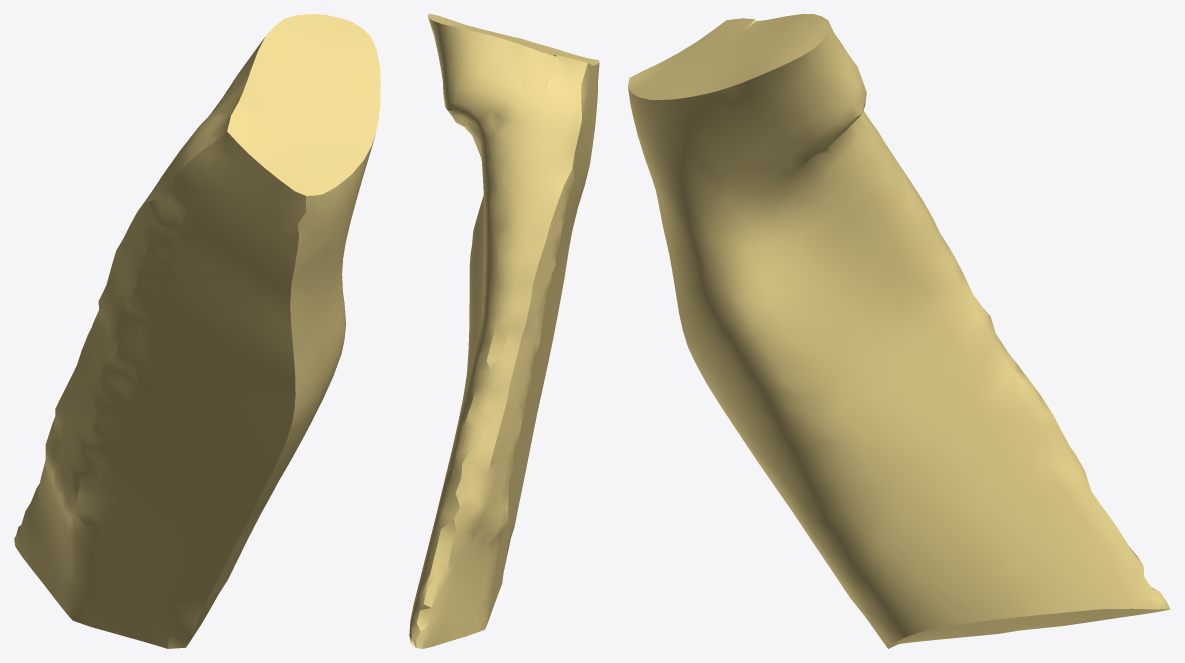
The model's file is fma73844_mm2538.glb.
3 views of the same model, side by side, from view 1: azimuth 30°, elevation 25°; view 2: azimuth 150°, elevation 25°; view 3: azimuth 270°, elevation 25° (orthographic). The views are drawn at different scales.
Visible parts, largest first — view 1: FMA73844_MM2538; view 2: FMA73844_MM2538; view 3: FMA73844_MM2538.
Boxes of the visible parts, box(x1,y1,x2,y2) form: FMA73844_MM2538: box(14, 14, 380, 648); FMA73844_MM2538: box(409, 14, 599, 648); FMA73844_MM2538: box(628, 14, 1170, 648).
Bounding box in the file's own units: 0.00358 × 0.0112 × 0.00822.
